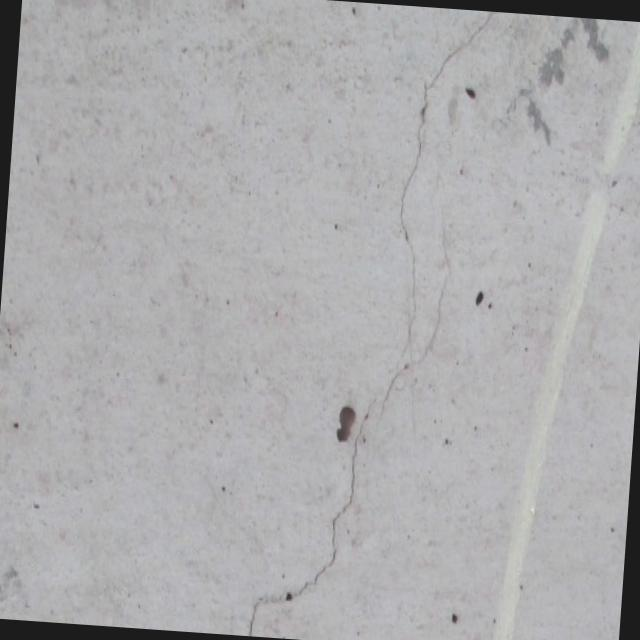crack: (248, 0, 496, 640)
